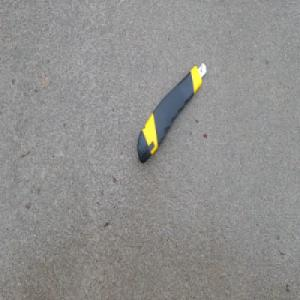Cutter: (137, 60, 208, 165)
